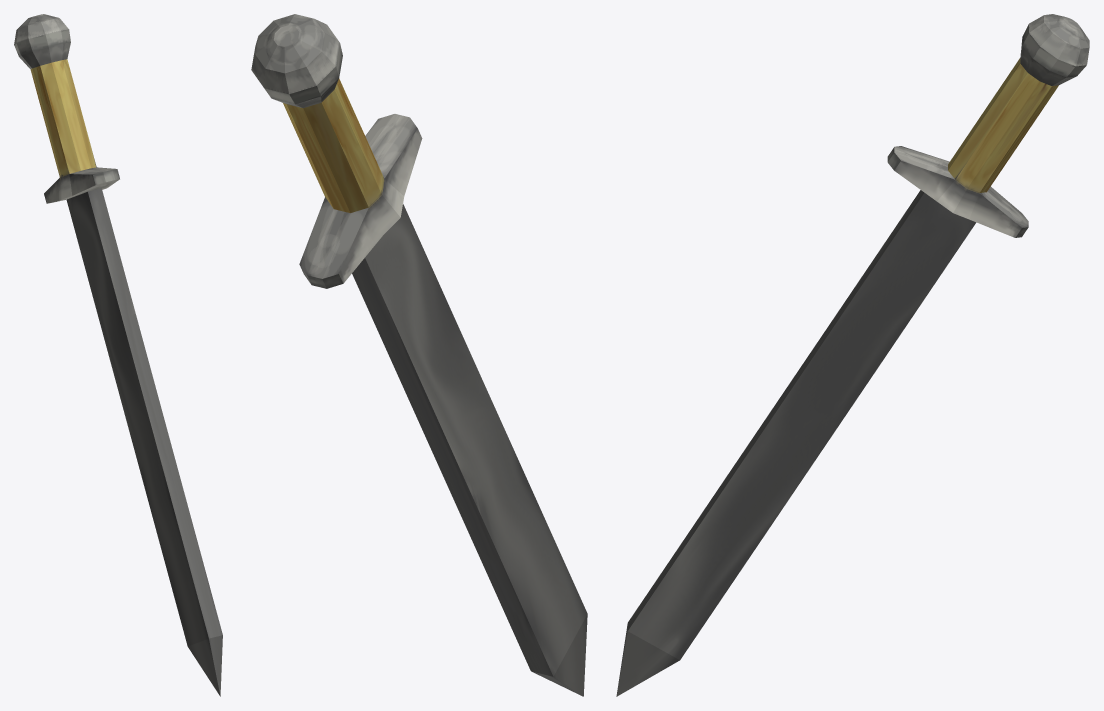
The model's file is kılıç.fbx.
3 views of the same model, side by side, from view 1: azimuth 30°, elevation 25°; view 2: azimuth 150°, elevation 25°; view 3: azimuth 270°, elevation 25° (orthographic). The views are drawn at different scales.
Parts seen in each view (by area): view 1: Cylinder; view 2: Cylinder; view 3: Cylinder.
Boxes of the visible parts, x1,y1,x2,y2 form: Cylinder: [14, 14, 222, 696]; Cylinder: [251, 14, 587, 696]; Cylinder: [616, 14, 1089, 696].
Bounding box in the file's own units: 0.3407 × 3.56 × 2.25.
Materials: 1 (1 with a texture image).
